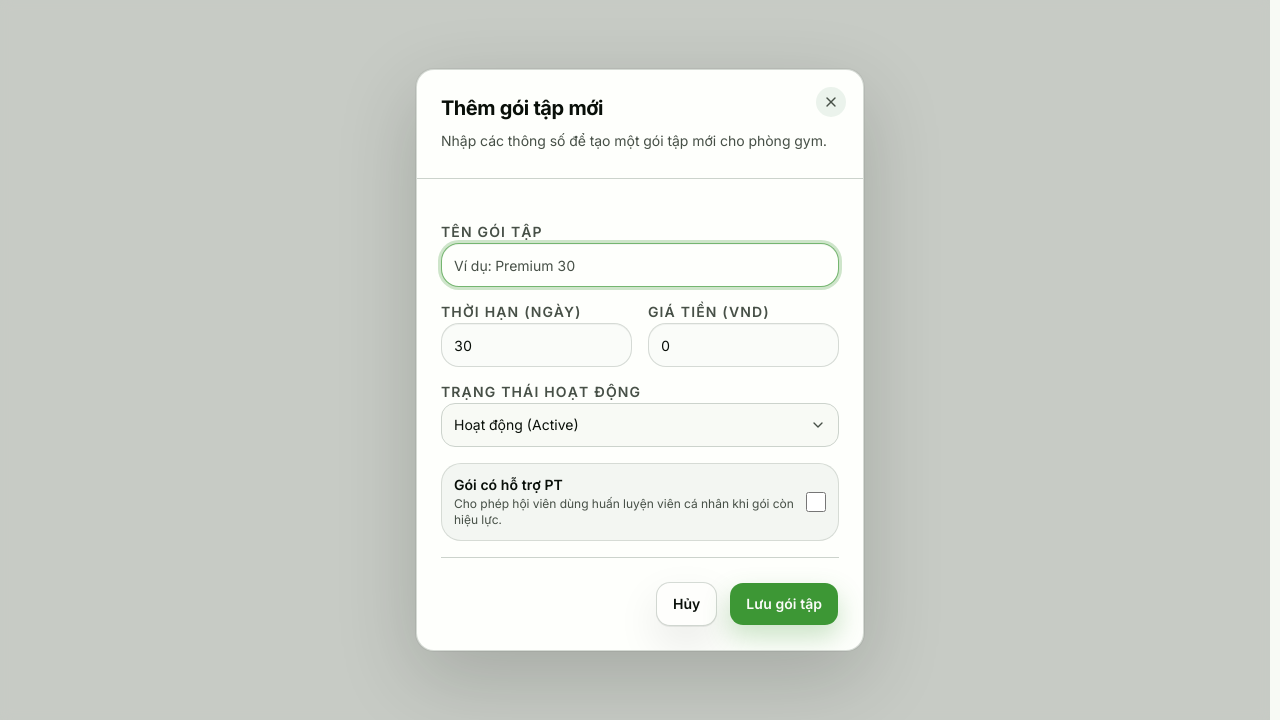
Test case: PackageEditorDialog › shows validation error when fields are empty or invalid
Type "-5" into the number field labelled "Thời hạn (ngày)" at [536, 345], box [441,323,632,367]
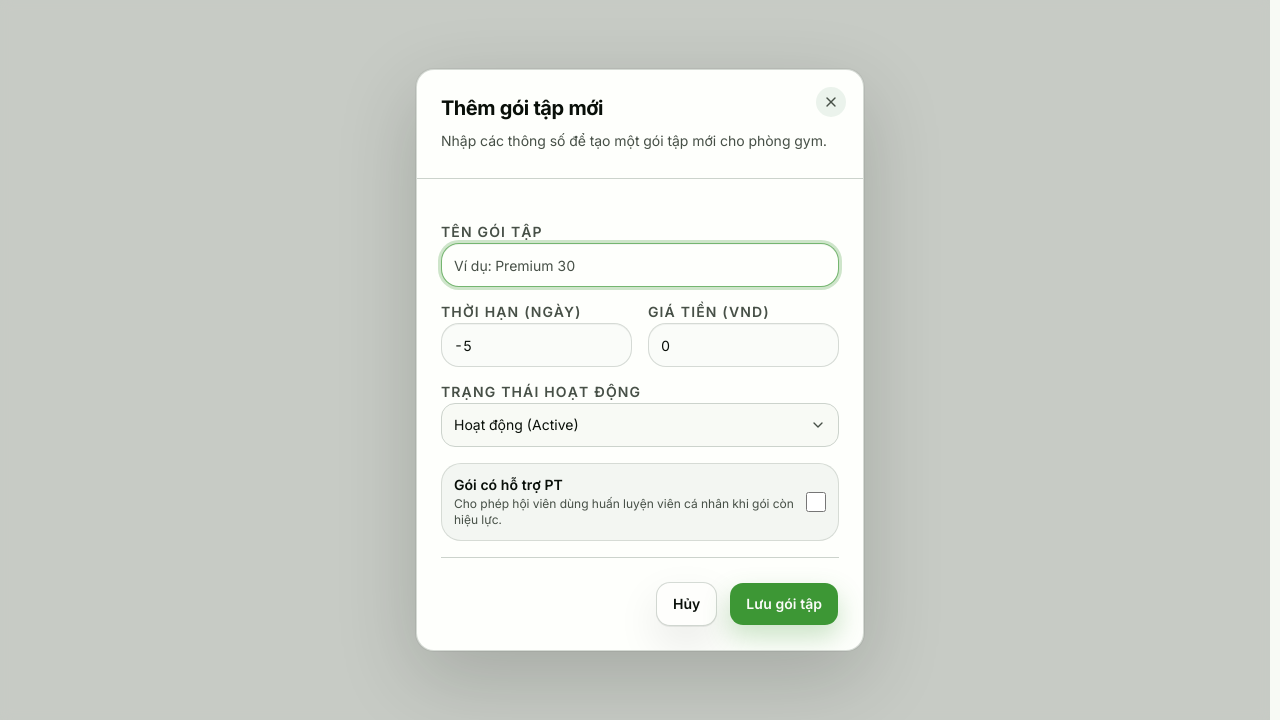
Replace the text in the number field labelled "Giá tiền (VND)" with "-100" at [744, 345], box [648,323,839,367]
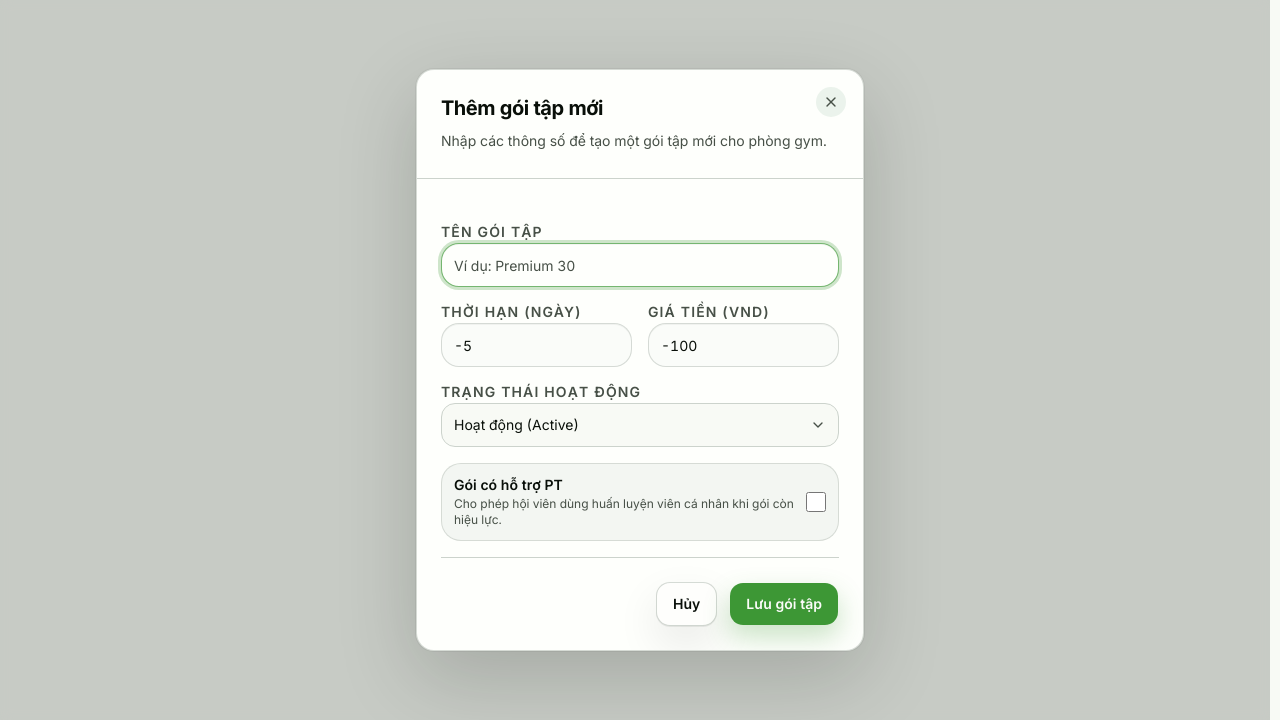
Click the button "Lưu gói tập" at [784, 604], box [729,582,839,626]
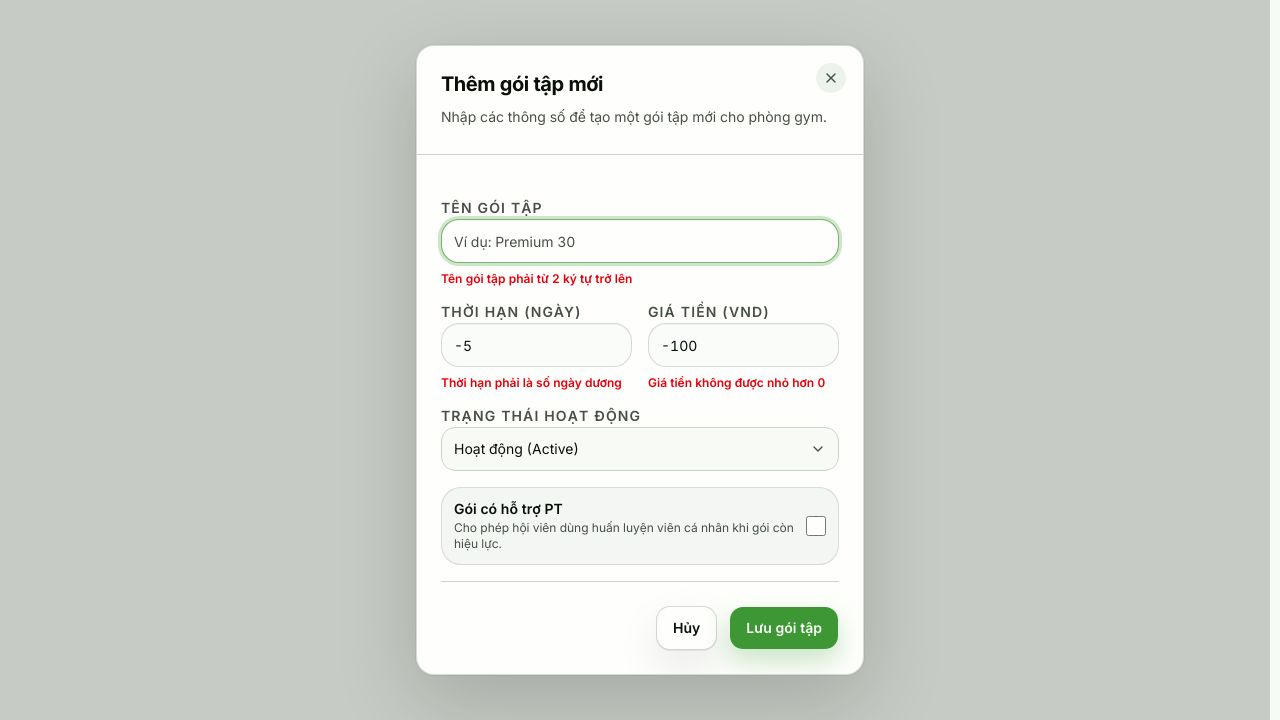
Check: the text "Tên gói tập phải từ 2 ký tự trở lên" is shown, box [441,271,632,286]
Check: the text "Thời hạn phải là số ngày dương" is shown, box [441,375,632,391]
Check: the text "Giá tiền không được nhỏ hơn 0" is shown, box [648,375,839,391]
